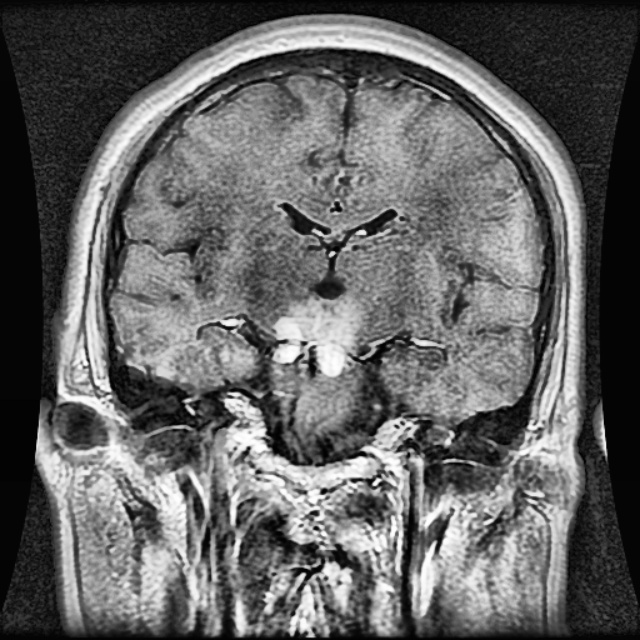Pituitary: (272, 297, 355, 373)
